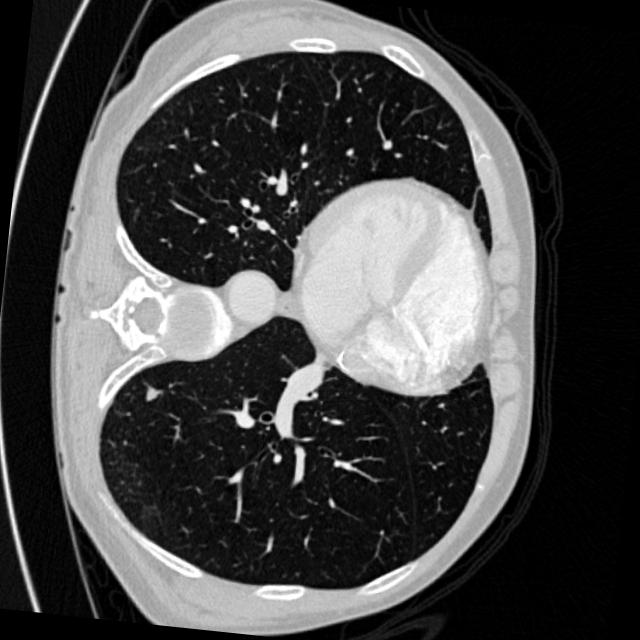nodule: (138, 382, 164, 409)
